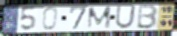0: (40, 6, 60, 32)
5: (19, 6, 39, 33)
7: (68, 6, 88, 30)
B: (135, 4, 159, 30)
M: (86, 6, 112, 31)
U: (114, 4, 137, 30)
